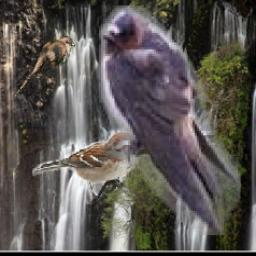Cuckoo: (13, 35, 75, 97)
Sparrow: (32, 132, 138, 205)
Swallow: (97, 7, 241, 236)
